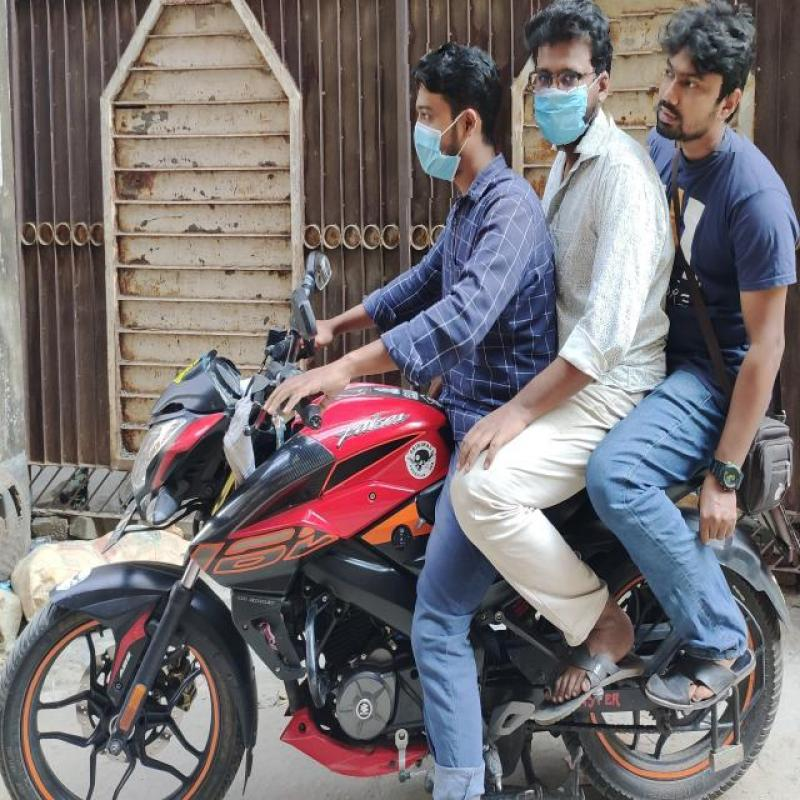nohelmet: (647, 1, 751, 150), (525, 0, 619, 154), (400, 43, 490, 198)
